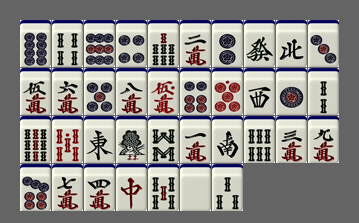0m: (148, 68, 179, 115)
0p: (212, 68, 243, 115)
0s: (52, 116, 83, 163)
1m: (180, 116, 211, 163)
1p: (276, 68, 307, 115)
1s: (116, 116, 147, 163)
1z: (84, 116, 115, 163)
2m: (180, 20, 211, 67)
2p: (212, 20, 243, 67)
2s: (308, 68, 339, 115)
2z: (212, 116, 243, 163)
3m: (276, 116, 307, 163)
3p: (308, 20, 339, 67)
3s: (212, 164, 243, 211)
3z: (244, 68, 275, 115)
4m: (84, 164, 115, 211)
4p: (116, 20, 147, 67)
4s: (52, 20, 83, 67)
4z: (276, 20, 307, 67)
5m: (20, 68, 51, 115)
5p: (84, 68, 115, 115)
5s: (148, 164, 179, 211)
5z: (180, 164, 211, 211)
6m: (52, 68, 83, 115)
6p: (180, 68, 211, 115)
6s: (244, 116, 275, 163)
6z: (244, 20, 275, 67)
7m: (52, 164, 83, 211)
7p: (20, 164, 51, 211)
7s: (148, 20, 179, 67)
7z: (116, 164, 147, 211)
8m: (116, 68, 147, 115)
8p: (20, 20, 51, 67)
8s: (148, 116, 179, 163)
9m: (308, 116, 339, 163)
9p: (84, 20, 115, 67)
9s: (20, 116, 51, 163)
